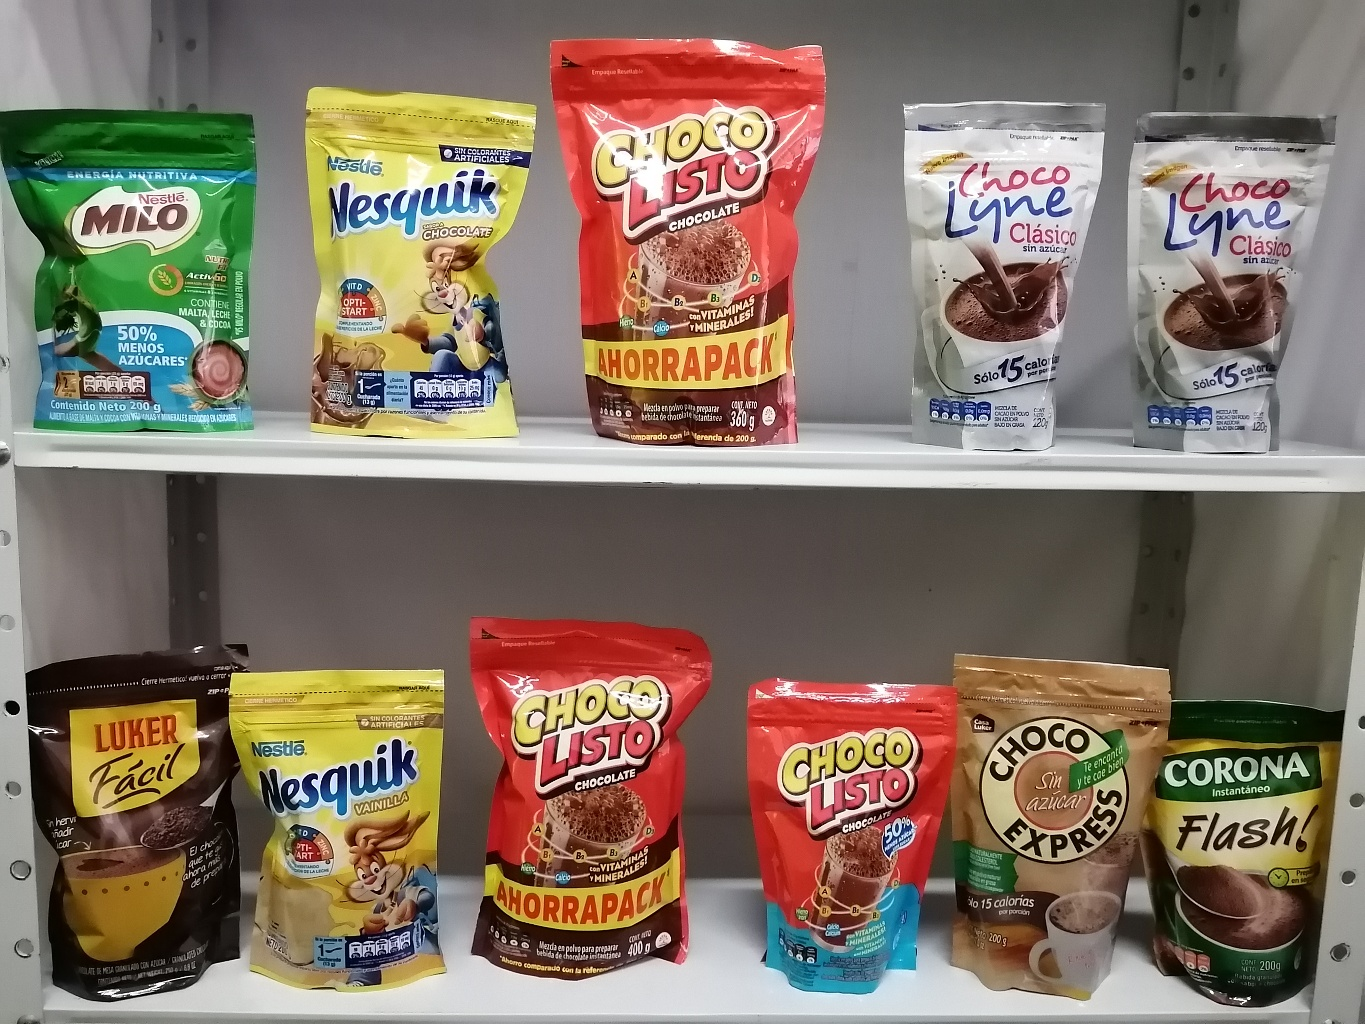COL0170103DYP36000: (540, 27, 834, 464)
COL0170103DYP40000: (458, 595, 725, 981)
COL0170104DYP20000: (736, 666, 973, 1001)
COL0170205DYP20000: (3, 101, 269, 451)
COL0170303DYP20000: (295, 77, 560, 449)
COL0170306DYP20000: (225, 660, 466, 1002)
